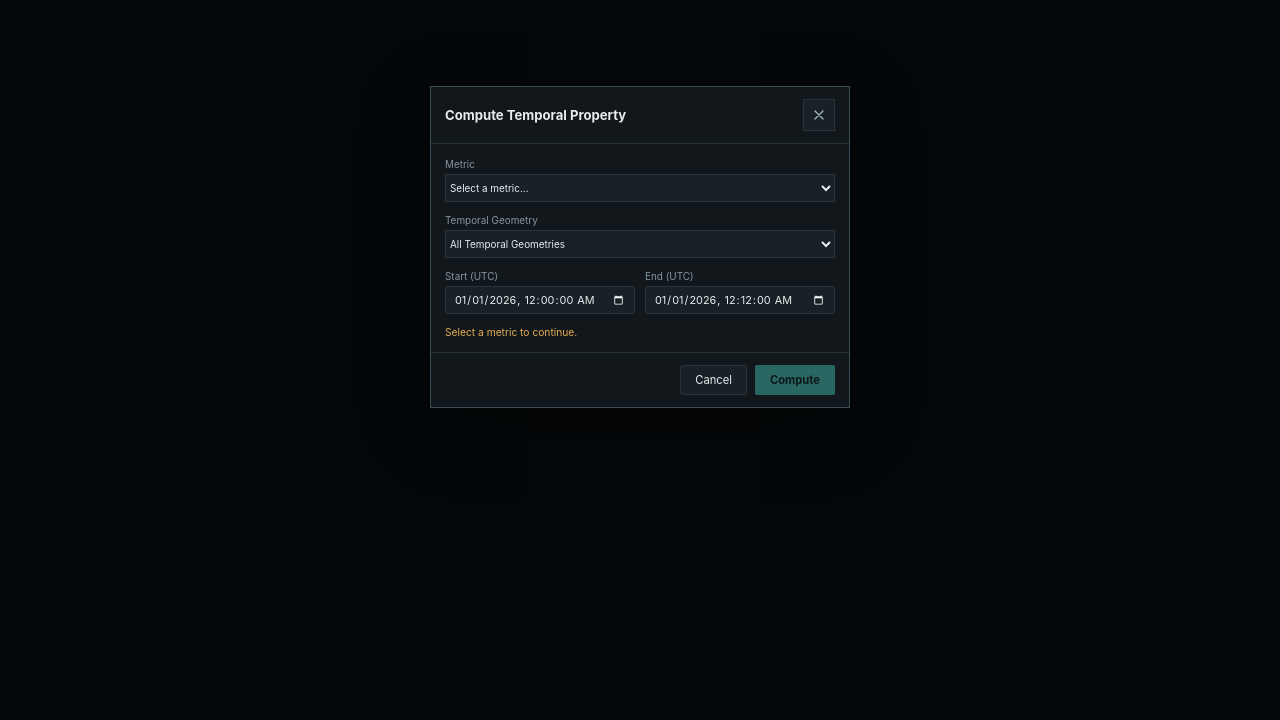
Test: ComputeTemporalPropertyDialog › shows an error and does not touch the store when the query fails entirely
Step 1. Select "Velocity" in the dropdown labelled "Metric" → (640, 188), box 445,174 -> 835,202
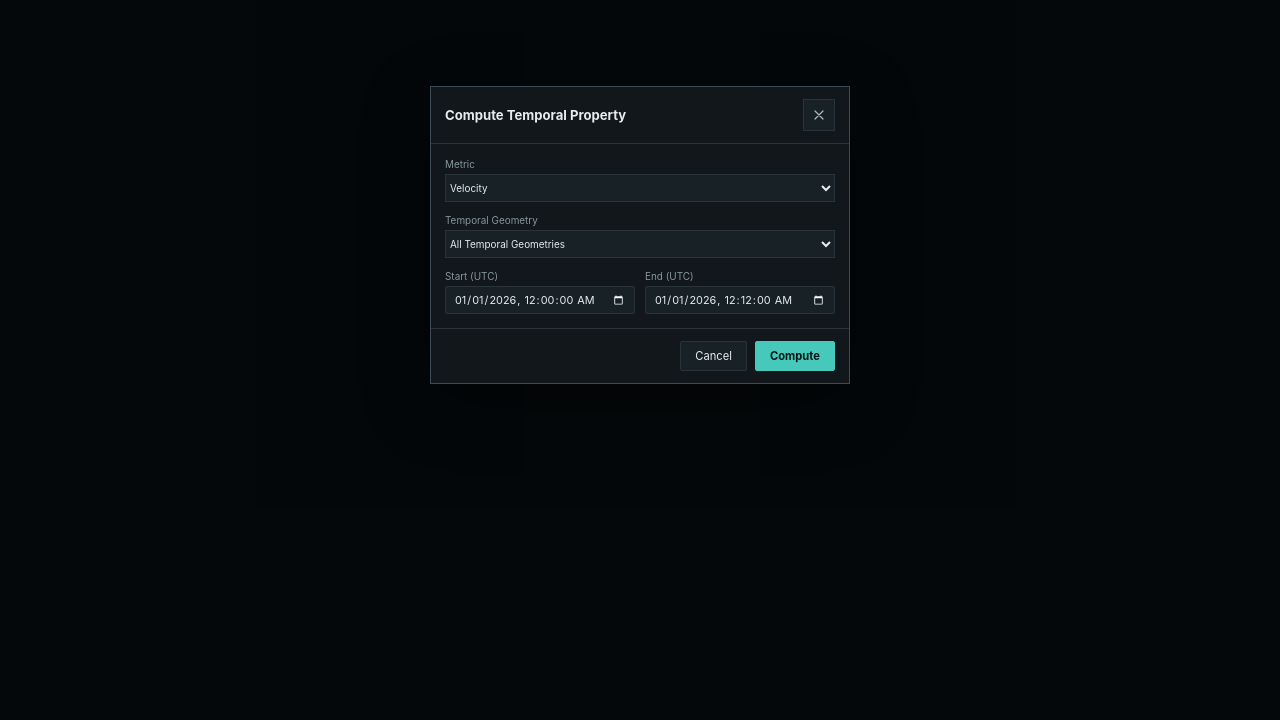
Step 2. Click the button "Compute" → (795, 356), box 755,341 -> 835,371
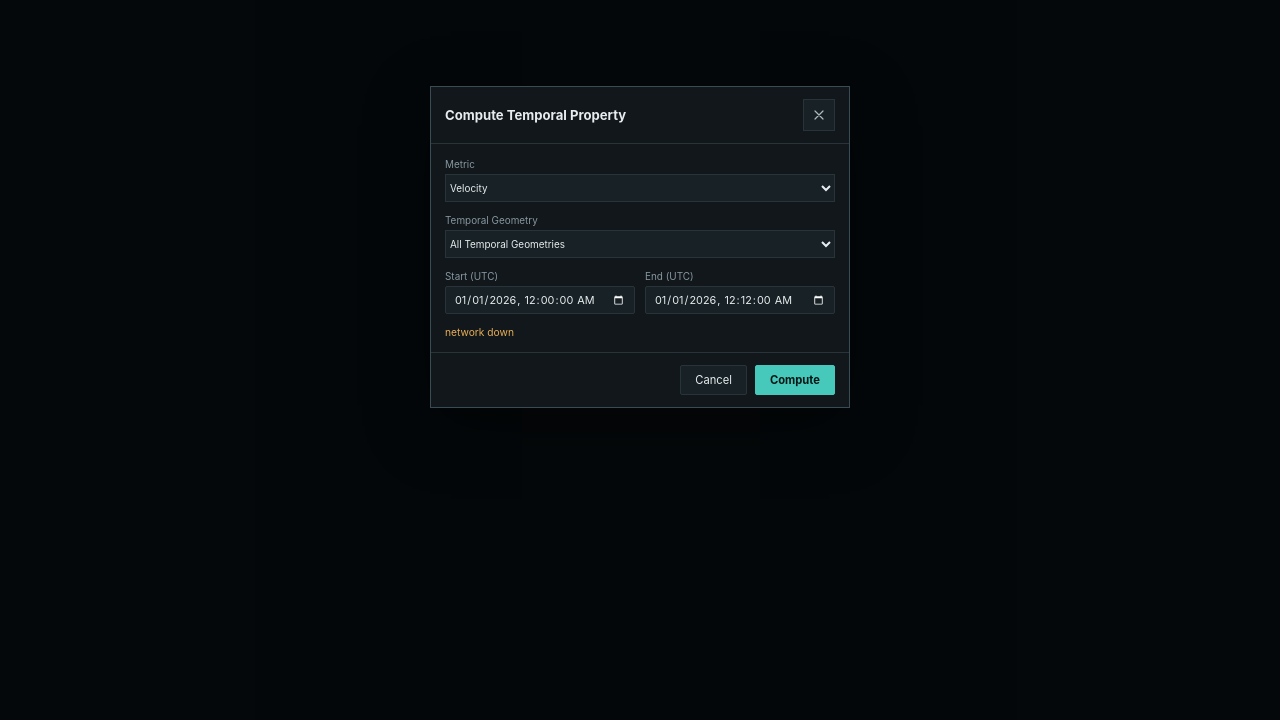
Result: the text "network down" is shown at 445,326 -> 514,338
